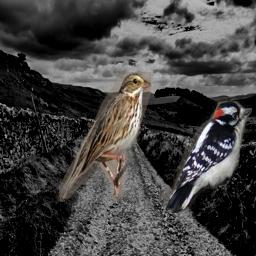Sparrow: (59, 72, 151, 202)
Woodpecker: (163, 101, 252, 213)
